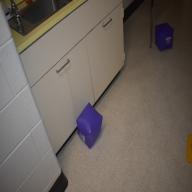cone: (186, 134, 192, 164)
cube: (76, 102, 104, 150), (154, 21, 174, 51)
